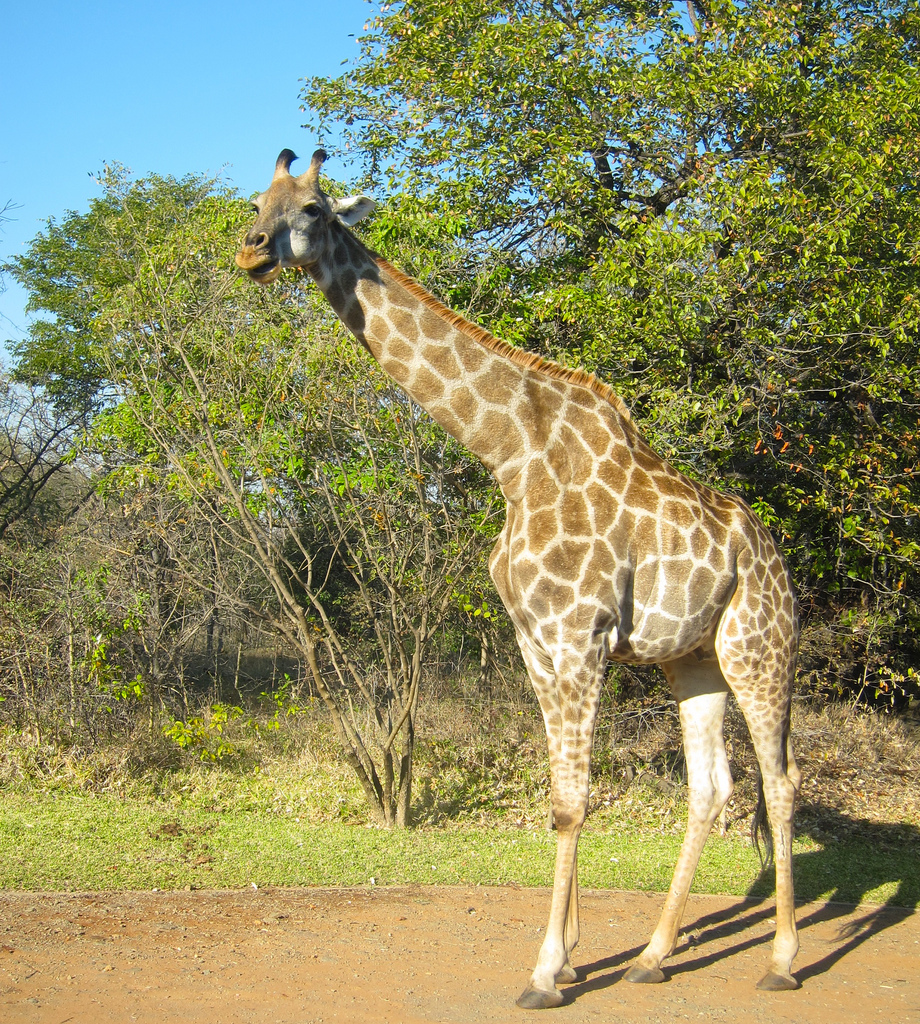giraffe: (229, 137, 850, 1010)
